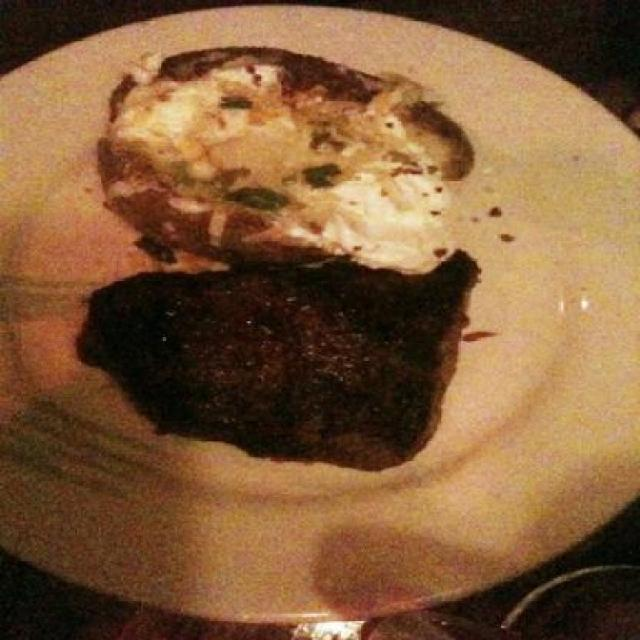Steak: (60, 264, 557, 480)
